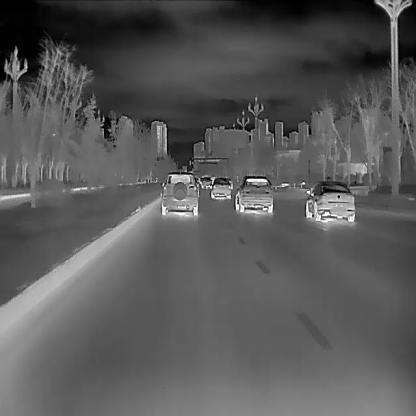car: (305, 180, 355, 221), (160, 172, 198, 214), (234, 174, 273, 212), (211, 176, 230, 198), (202, 176, 212, 188)
